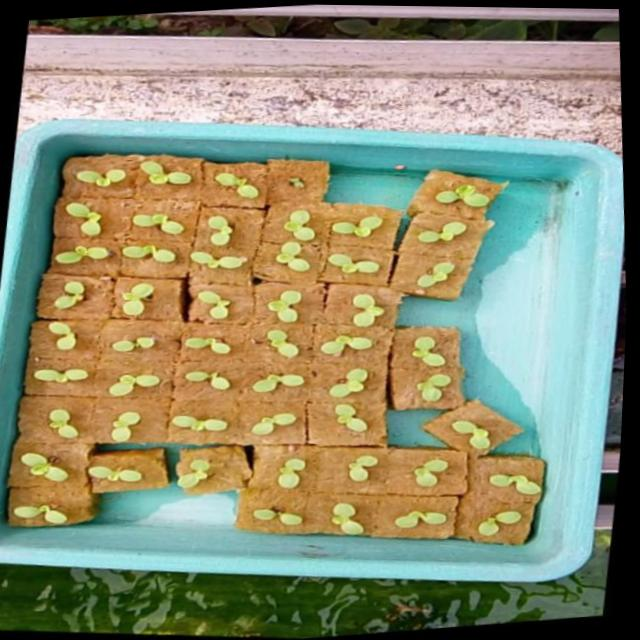Baby: (393, 327, 462, 387), (52, 202, 130, 250), (175, 446, 251, 495), (389, 449, 467, 496), (91, 398, 168, 444), (308, 403, 385, 445), (475, 471, 542, 519), (28, 320, 93, 369), (307, 364, 387, 403), (111, 325, 178, 371), (313, 332, 391, 370), (234, 492, 303, 534), (238, 404, 305, 445), (207, 208, 261, 256), (36, 397, 92, 443), (325, 455, 391, 494), (85, 452, 146, 494), (172, 368, 238, 405), (149, 157, 202, 200), (409, 180, 489, 208), (7, 453, 67, 488), (249, 446, 300, 487), (414, 262, 469, 300), (168, 407, 226, 443), (180, 326, 241, 359), (263, 290, 320, 324), (8, 504, 96, 526), (202, 173, 258, 207), (188, 288, 239, 324), (78, 167, 135, 199), (345, 294, 394, 328), (247, 373, 304, 402), (129, 214, 187, 242), (318, 503, 366, 535), (396, 510, 445, 538), (339, 260, 390, 286), (392, 387, 462, 405), (267, 170, 306, 200), (417, 221, 465, 243), (265, 330, 298, 359), (286, 253, 315, 281), (351, 215, 381, 238), (342, 449, 388, 454)
